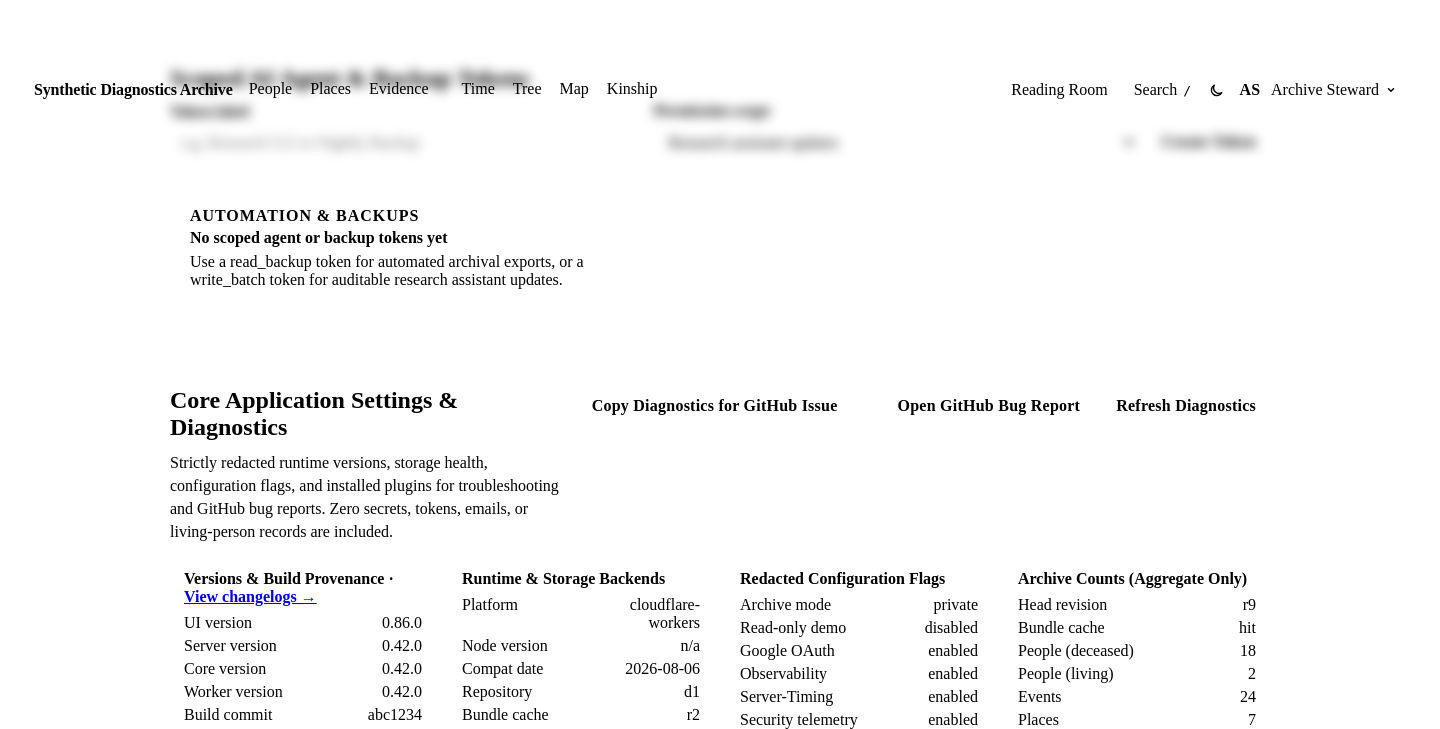
Test: Admin Settings & SystemDiagnosticsSection behavioral flows › renders merged server + UI plugins, adminSettings slot, copy feedback, GitHub link, and refresh in AdminPage
Later steps or results of the test are not shown.
(page scrolled)
Click the button "Copy Diagnostics for GitHub Issue": (715, 406) [578,387,852,425]
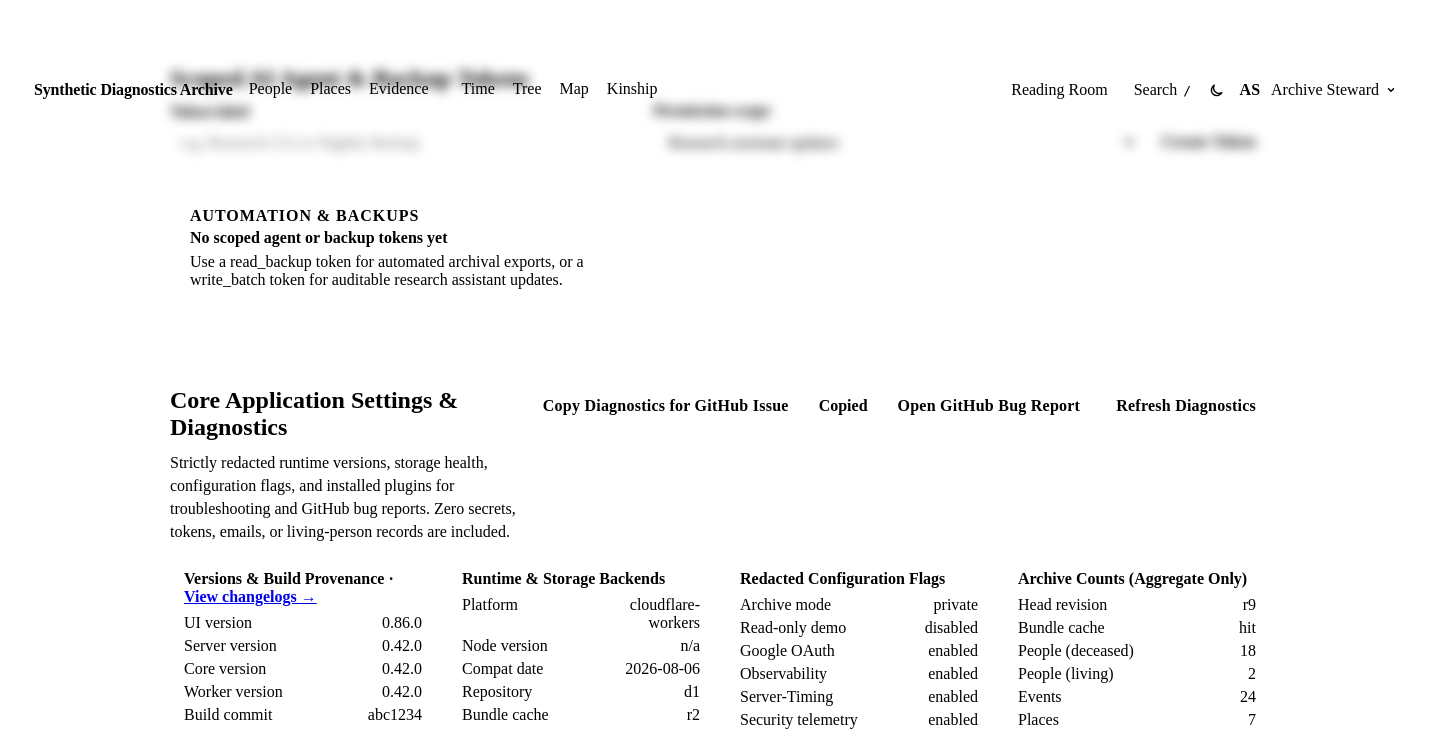
Now the message "Copied" is shown, box [819,397,868,414]
